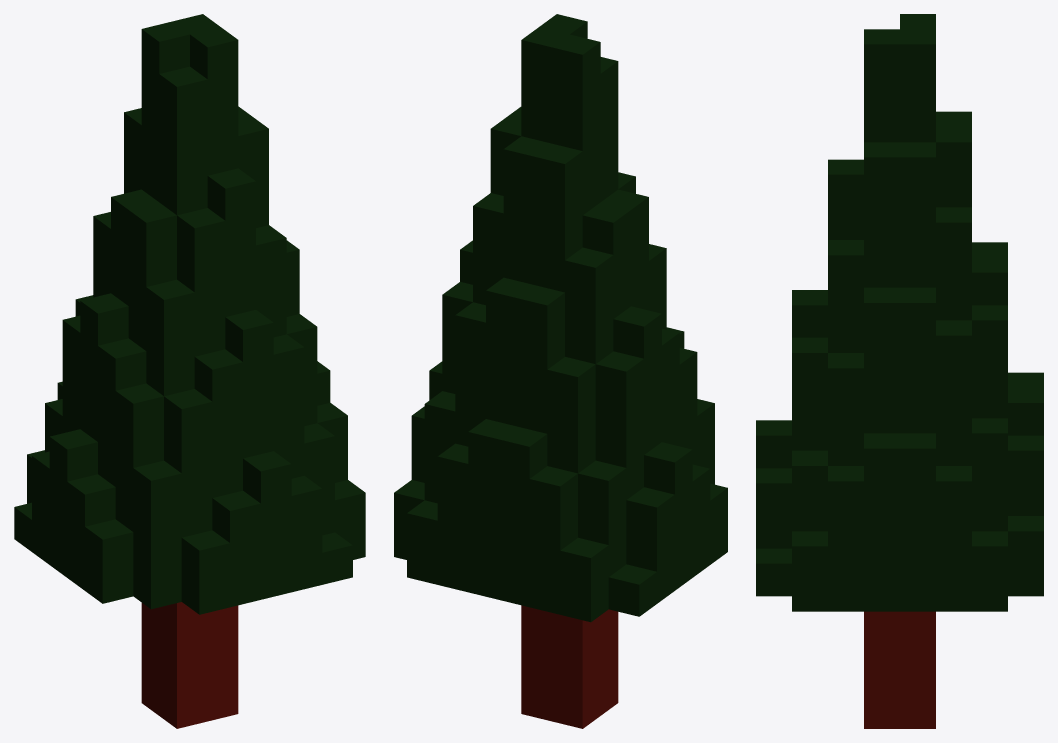
The model's file is treeFBX.fbx.
3 renders of one model, left to right at view 1: azimuth 30°, elevation 25°; view 2: azimuth 150°, elevation 25°; view 3: azimuth 270°, elevation 25°, orthographic.
Visible parts, largest first — view 1: TreeMesh; view 2: TreeMesh; view 3: TreeMesh.
Boxes of the visible parts, x1,y1,x2,y2 form: TreeMesh: (14, 14, 365, 728); TreeMesh: (394, 14, 727, 728); TreeMesh: (756, 14, 1043, 728).
Bounding box in the file's own units: 79.39 × 208 × 79.39.
